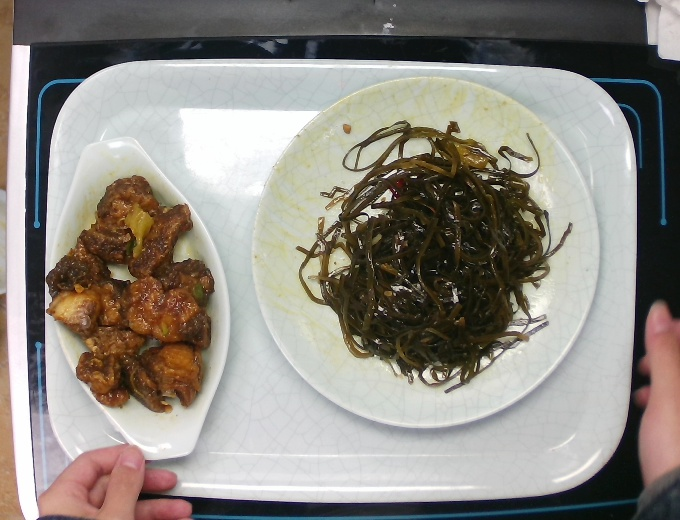JYsf-Da_Yuan_Pan: (240, 71, 610, 433)
JYsf-Yu_Pan: (40, 131, 235, 466)
